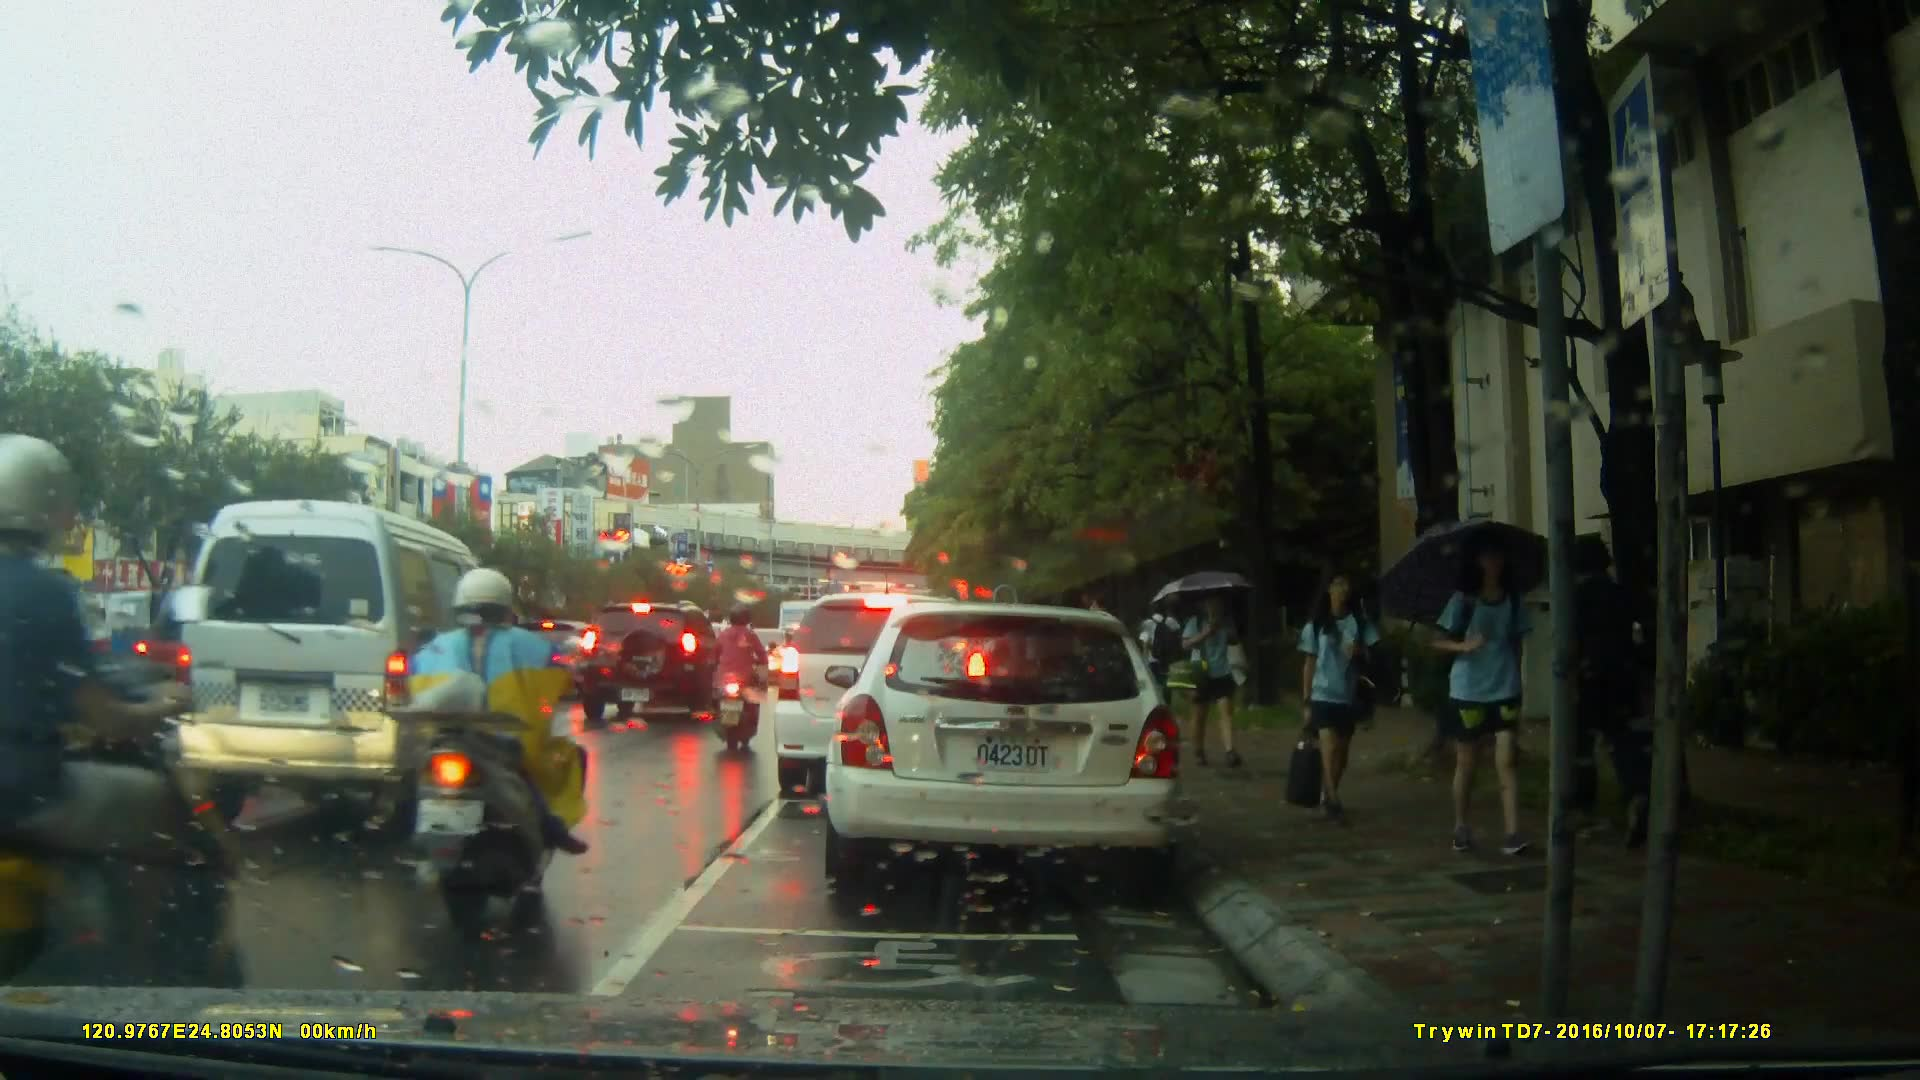pedestrian: (1409, 533, 1547, 866), (1551, 527, 1661, 862), (1285, 558, 1380, 834), (1176, 579, 1245, 778)
rider: (1, 446, 263, 1070), (398, 563, 591, 936), (707, 601, 770, 751)
vehicle: (815, 593, 1204, 909), (166, 497, 507, 849), (770, 590, 994, 802), (576, 603, 737, 726)
